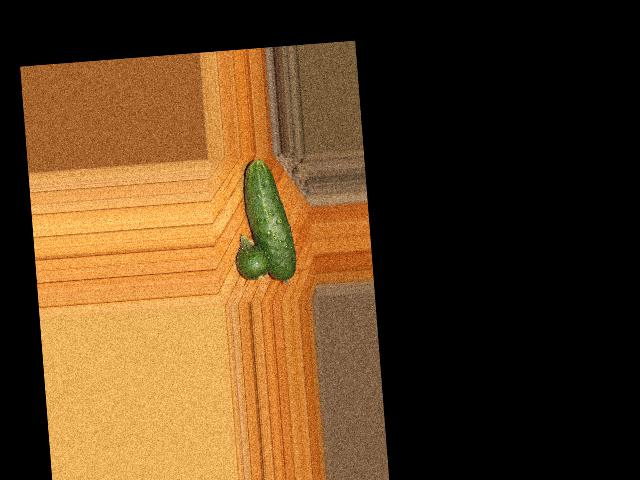cucumber: (241, 156, 297, 283)
